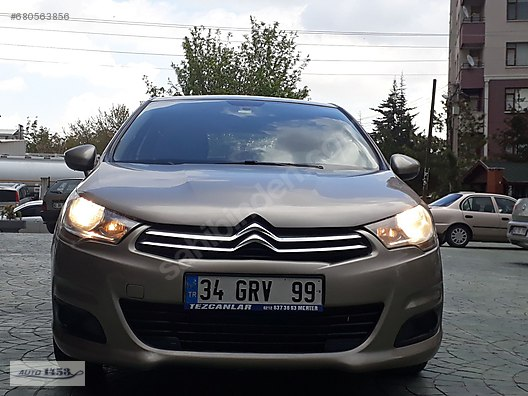c: (39, 95, 448, 387)
